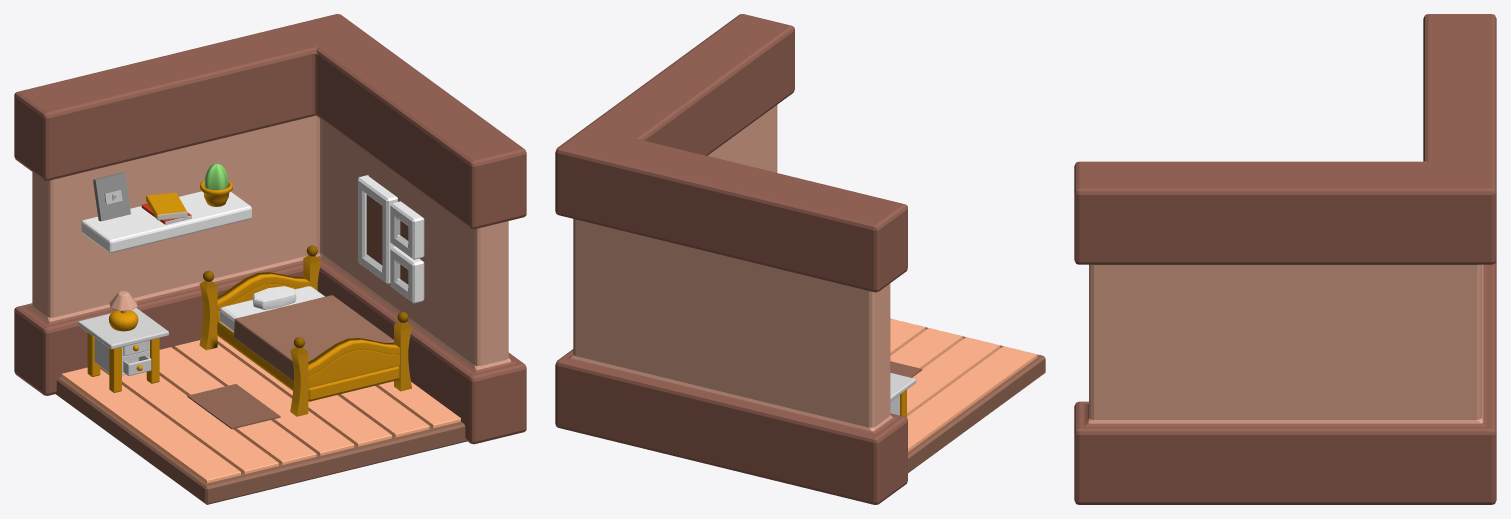
File: trabalho5.gltf
3 renders of one model, left to right at view 1: azimuth 30°, elevation 25°; view 2: azimuth 150°, elevation 25°; view 3: azimuth 270°, elevation 25°, orthographic. The views are drawn at different scales.
Parts seen in each view (by area): view 1: Cube, Plane.001, Plane, Plane.006, Cube.001, Cube.002, Plane.003, Plane.004, Plane.008, Plane.011, Plane.002, Cylinder (+4 smaller); view 2: Cube, Plane.001, Plane, Plane.008; view 3: Cube.
Boxes of the visible parts, <box> form: Cube: <box>14,14,526,444</box>; Plane.001: <box>61,336,460,483</box>; Plane: <box>56,347,467,504</box>; Plane.006: <box>234,295,393,381</box>; Cube.001: <box>358,175,424,303</box>; Cube.002: <box>81,191,251,253</box>; Plane.003: <box>217,272,399,387</box>; Plane.004: <box>199,245,411,416</box>; Plane.008: <box>78,308,168,375</box>; Plane.011: <box>187,384,280,429</box>; Plane.002: <box>217,321,399,401</box>; Cylinder: <box>93,172,130,221</box>; Cube: <box>555,14,907,504</box>; Plane.001: <box>890,319,1037,451</box>; Plane: <box>890,318,1045,472</box>; Plane.008: <box>890,373,916,415</box>; Cube: <box>1074,14,1496,504</box>.
Bounding box in the file's own units: 13.92 × 11.56 × 13.92.
